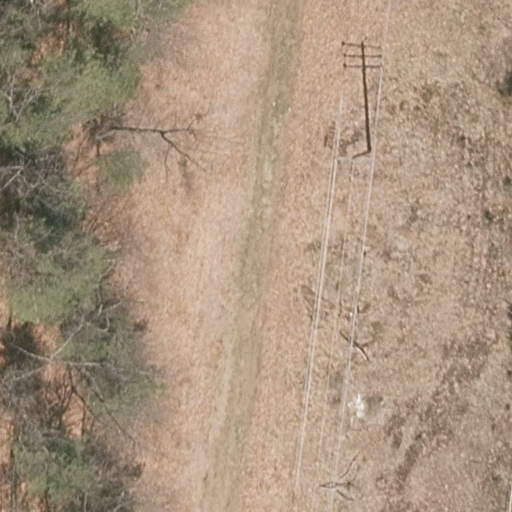DT: (333, 142, 376, 166)
